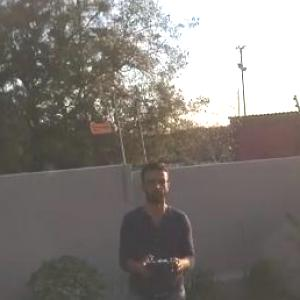follow: (106, 152, 198, 299)
